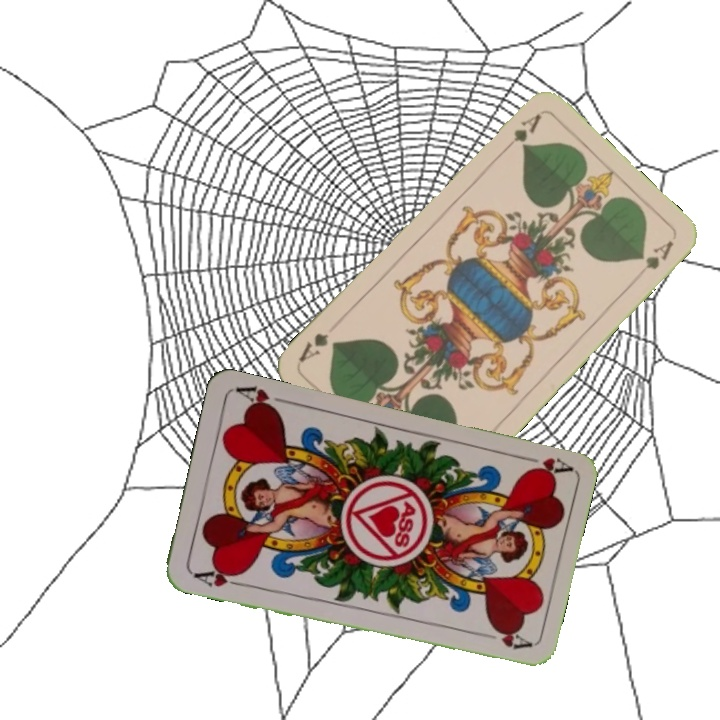GA: (498, 109, 545, 156)
HA: (514, 451, 573, 481), (190, 563, 247, 590)
